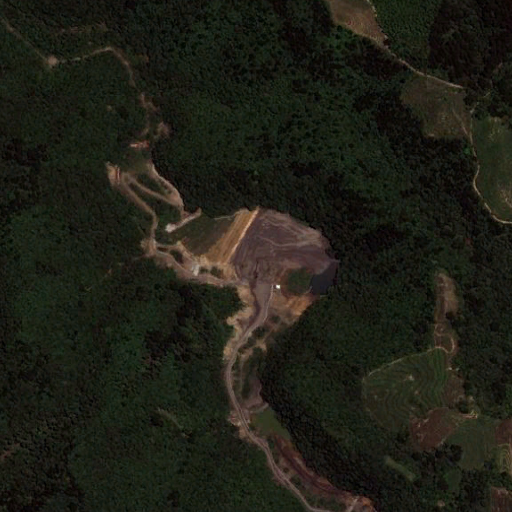tp: (209, 209, 331, 279)
